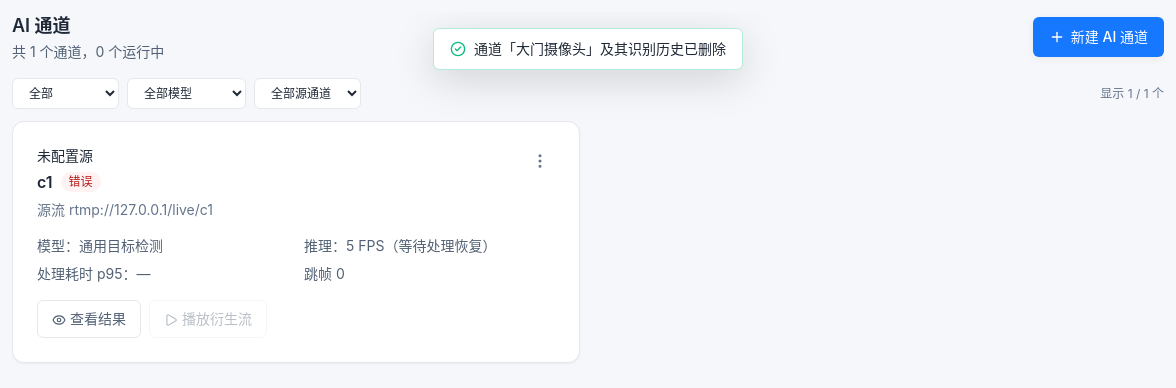
Scenario: AiChannelsPage 停止语义 › 出错通道可以停止（终止反复重试）
Click the button named "更多操作". click: (540, 161)
box: [525,146,555,176]
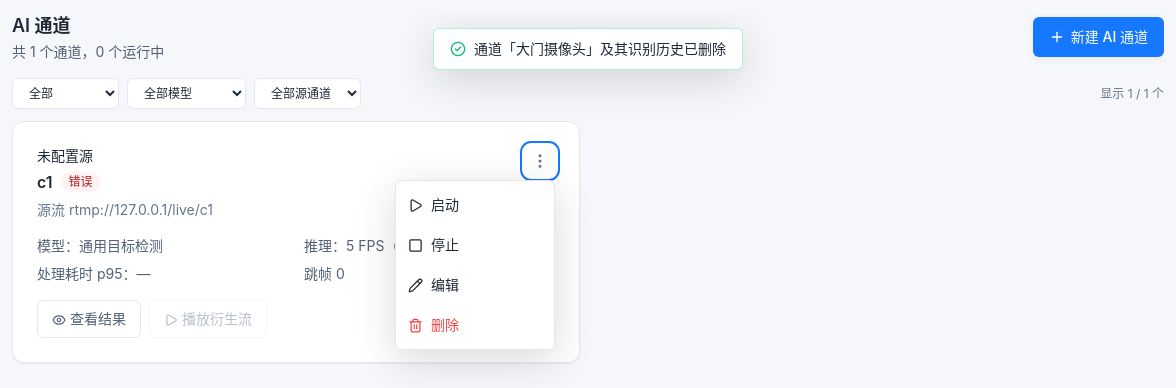
Now the button "停止" is shown, box [396,225,554,265]
